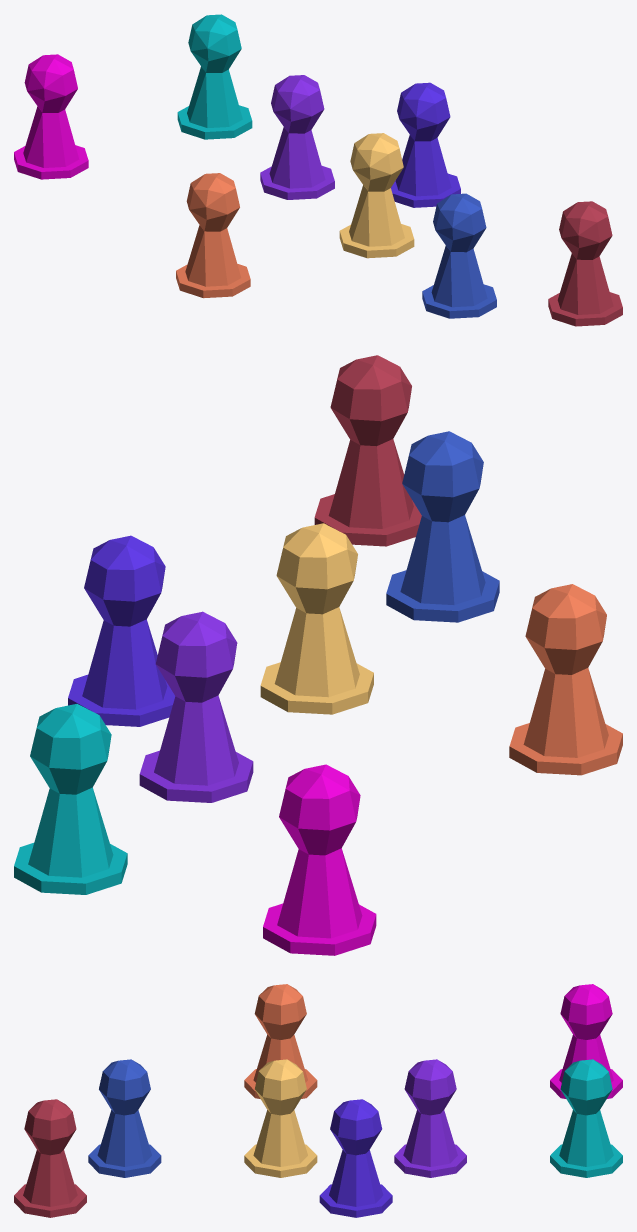
File: Interior_DND_Meeples.fbx
3 views of the same model, one above another, from view 1: azimuth 30°, elevation 25°; view 2: azimuth 150°, elevation 25°; view 3: azimuth 270°, elevation 25° (orthographic). The views are drawn at different scales.
Parts seen in each view (by area): view 1: Sphere.018; view 2: Sphere.018; view 3: Sphere.018.
Boxes of the visible parts, x1,y1,x2,y2 form: Sphere.018: (14, 14, 622, 326); Sphere.018: (14, 355, 622, 955); Sphere.018: (14, 984, 622, 1217).
Bounding box in the file's own units: 24.16 × 7.84 × 42.59.
